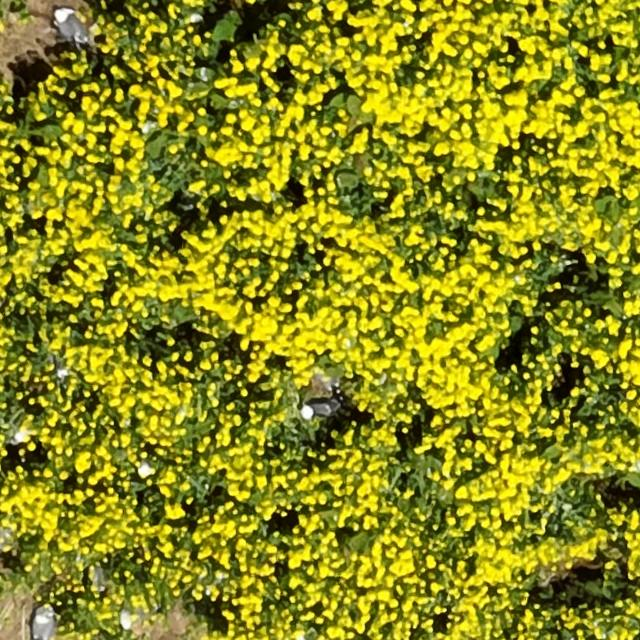umineko: (55, 10, 85, 42), (303, 398, 336, 418), (34, 610, 56, 639)
